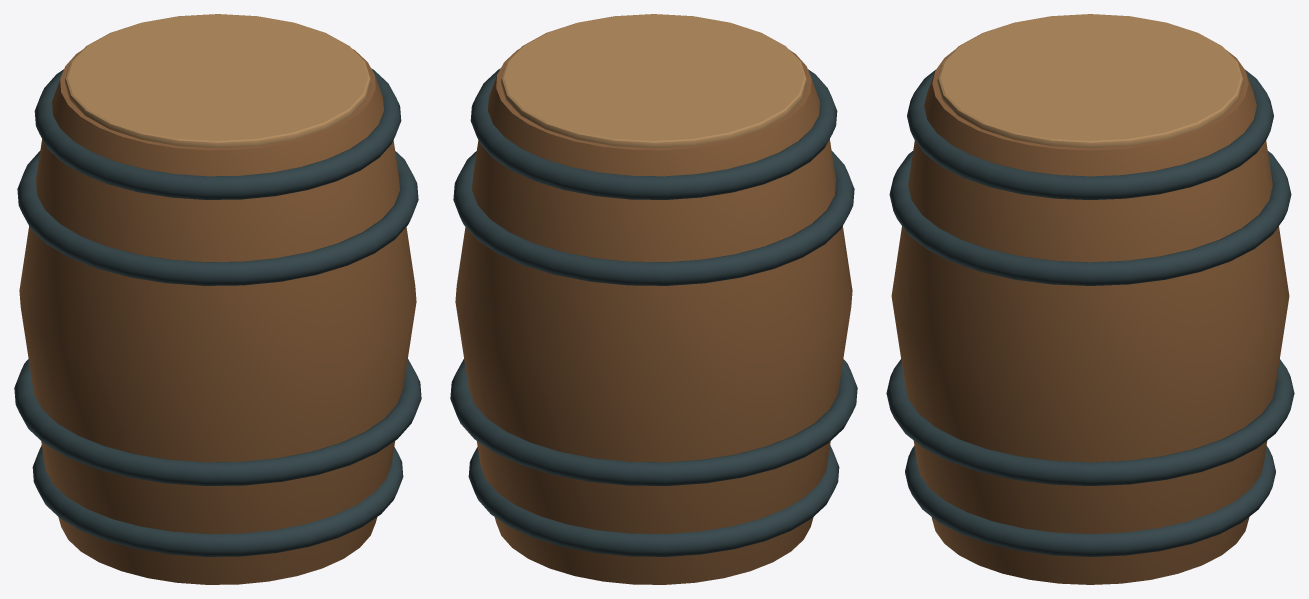
Rendered from SM_WoodBarrel.fbx.
The picture shows the model from 3 angles, left to right: view 1: azimuth 30°, elevation 25°; view 2: azimuth 150°, elevation 25°; view 3: azimuth 270°, elevation 25°; orthographic projection.
Parts seen in each view (by area): view 1: SM_WoodBarrel; view 2: SM_WoodBarrel; view 3: SM_WoodBarrel.
Boxes of the visible parts, box(x1,y1,x2,y2) form: SM_WoodBarrel: box(14, 14, 421, 584); SM_WoodBarrel: box(450, 14, 857, 584); SM_WoodBarrel: box(886, 14, 1294, 584).
Size of what is drawn, in the model's own units: 0.8 by 0.8 by 0.953.
